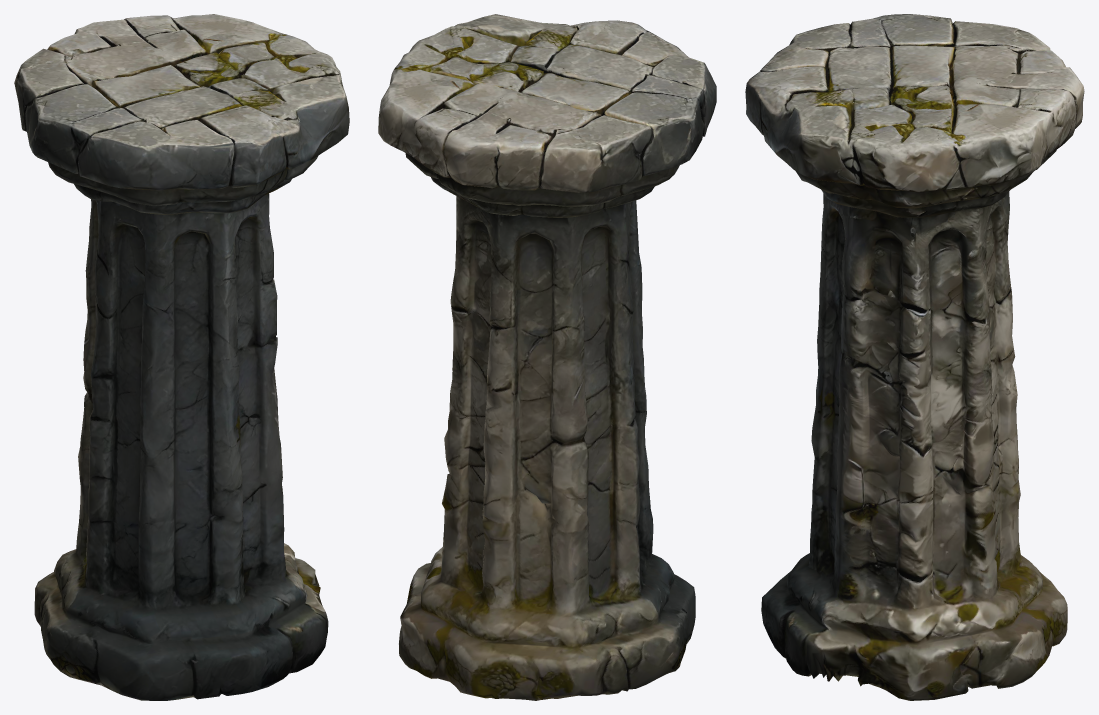
File: plataform.fbx
3 renders of one model, left to right at view 1: azimuth 30°, elevation 25°; view 2: azimuth 150°, elevation 25°; view 3: azimuth 270°, elevation 25°, orthographic.
Visible parts, largest first — view 1: tripo_node_b3f7ade7; view 2: tripo_node_b3f7ade7; view 3: tripo_node_b3f7ade7.
Part boxes in pixels (left/top/right/bottom): tripo_node_b3f7ade7: left=14, top=14, right=349, bottom=700; tripo_node_b3f7ade7: left=378, top=14, right=716, bottom=700; tripo_node_b3f7ade7: left=745, top=14, right=1084, bottom=700.
Bounding box in the file's own units: 0.536 × 1 × 0.5433.
Materials: 1 (1 with a texture image).
